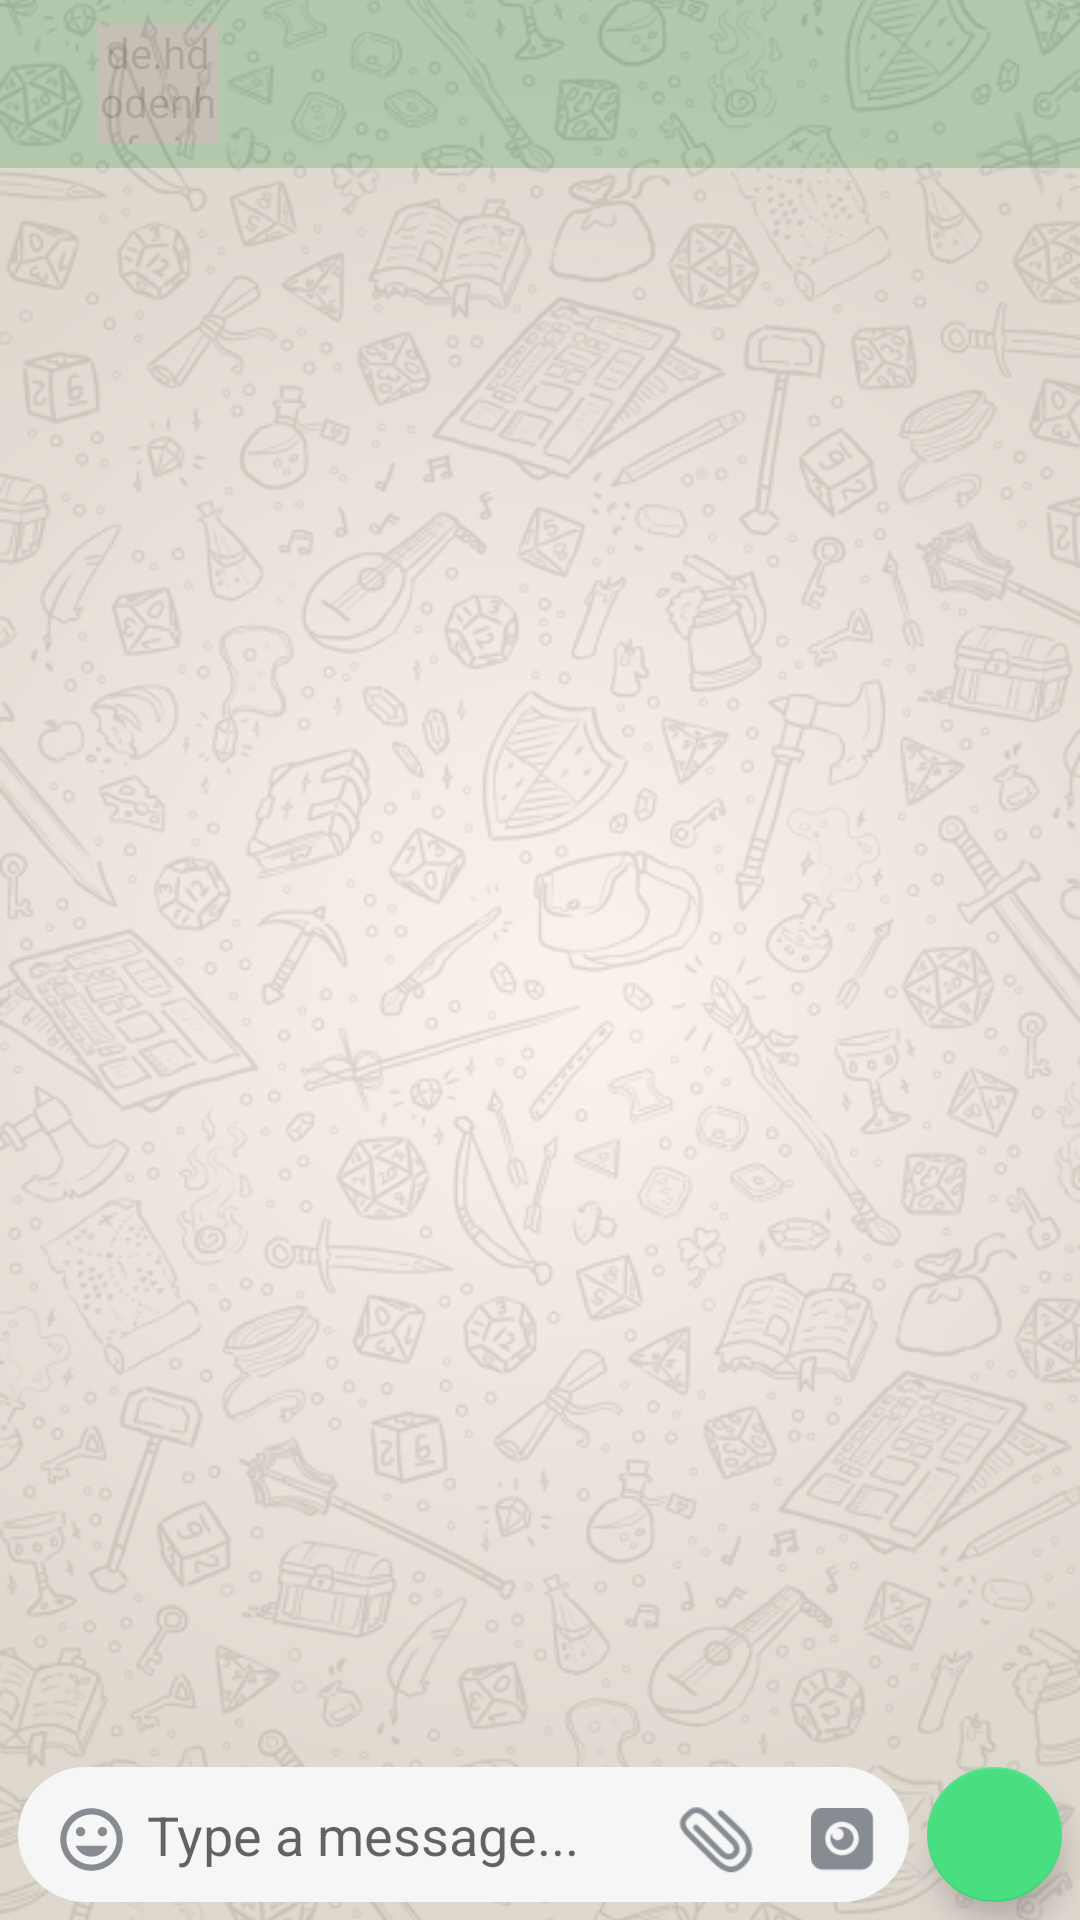

Locate icon controls on the screen. Image size 1080 × 1920, boxes as [x1=x1, y1=y1, x2=x2, y2=y2].
attach: [x1=679, y1=1807, x2=753, y2=1873]
cam: [x1=811, y1=1808, x2=873, y2=1870]
insert emoticon: [x1=60, y1=1808, x2=123, y2=1871]
